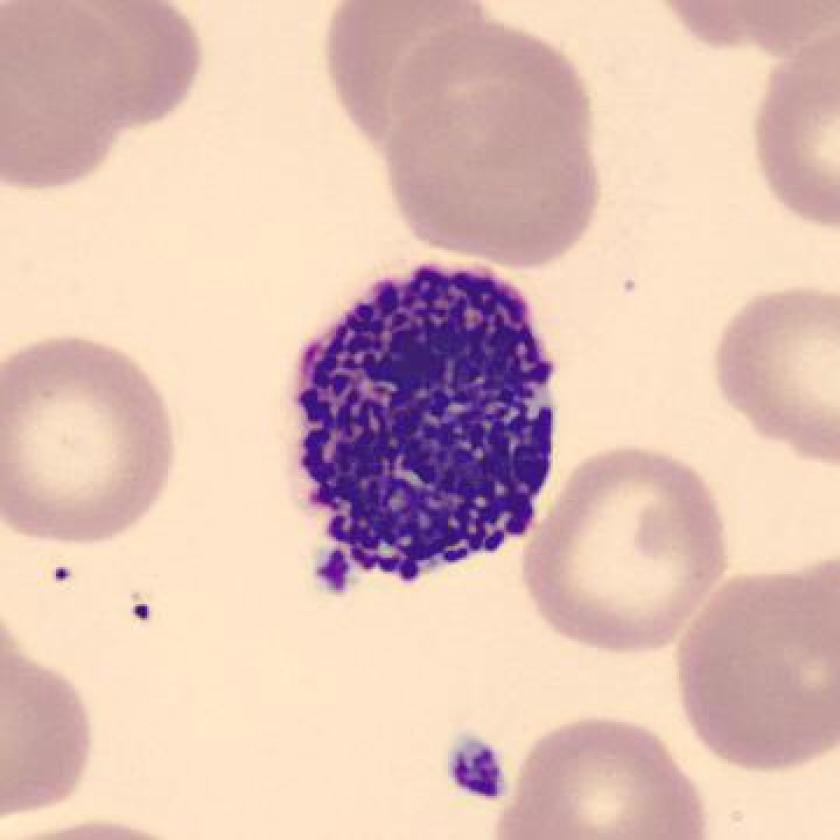basophil: (288, 253, 573, 591)
